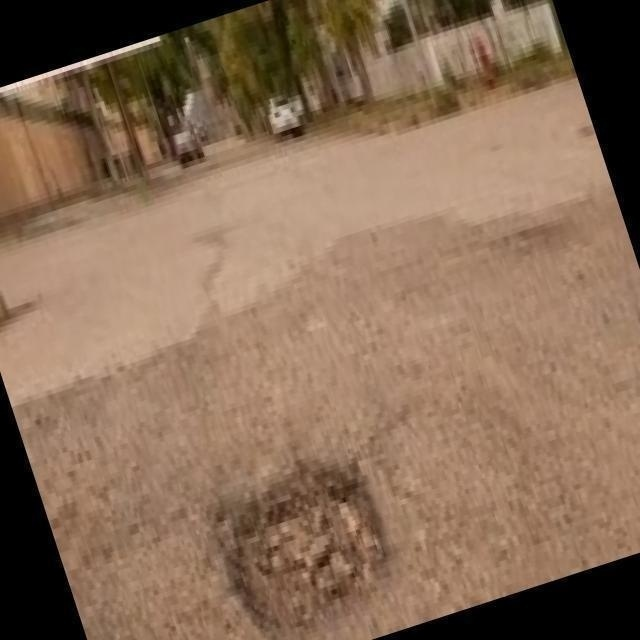pothole: (210, 448, 394, 622)
